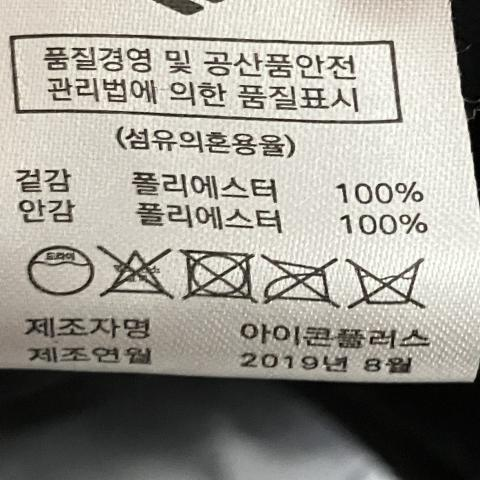DN_bleach: (106, 246, 170, 303)
DN_iron: (260, 255, 338, 308)
DN_tumble_dry: (183, 246, 255, 303)
DN_wash: (347, 252, 429, 312)
dry_clean: (27, 243, 94, 302)
